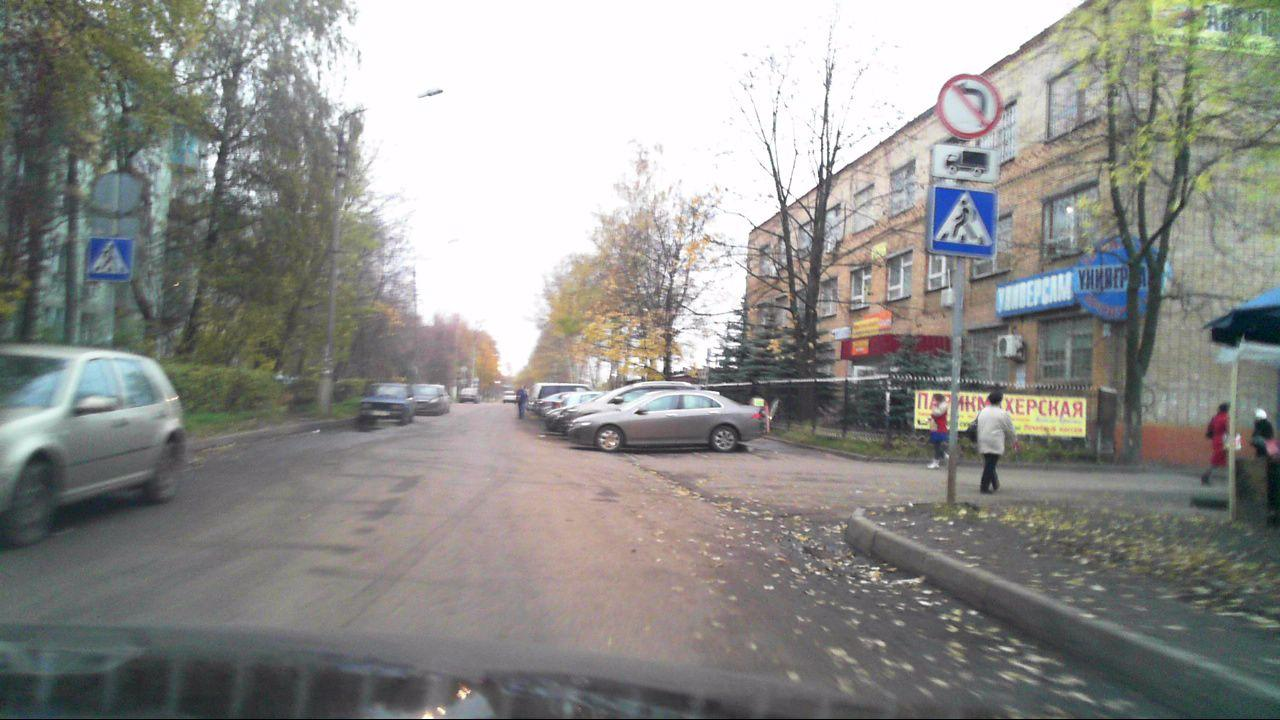3_18_2: (936, 71, 1005, 141)
5_19_1: (928, 185, 996, 257)
5_19_2: (88, 238, 132, 277)
8_4_1: (929, 146, 998, 183)
